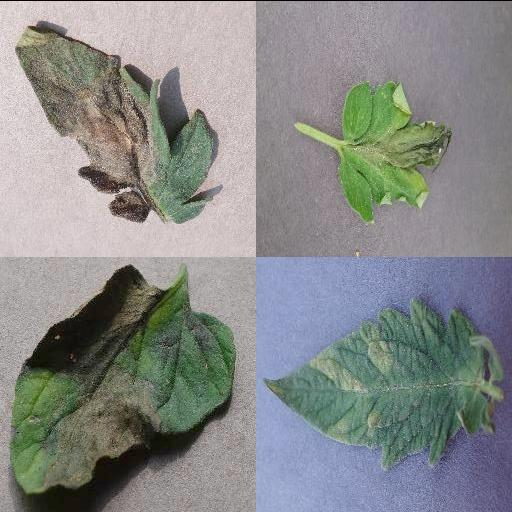Late Blight: (10, 262, 238, 494), (15, 25, 215, 223), (335, 76, 455, 222)
Leaf Mold: (263, 298, 503, 469)
